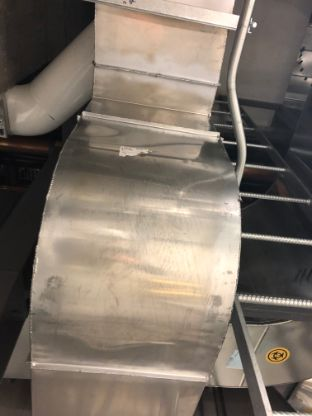Duct: (22, 1, 248, 416)
